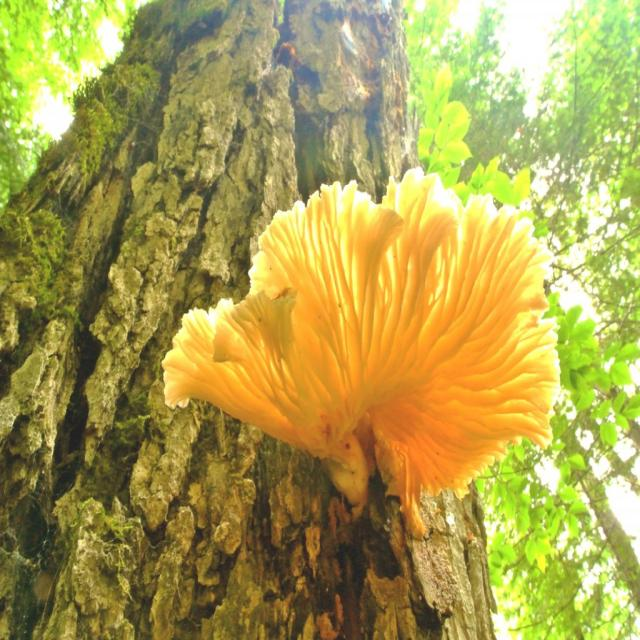mushroom: (147, 179, 563, 576)
